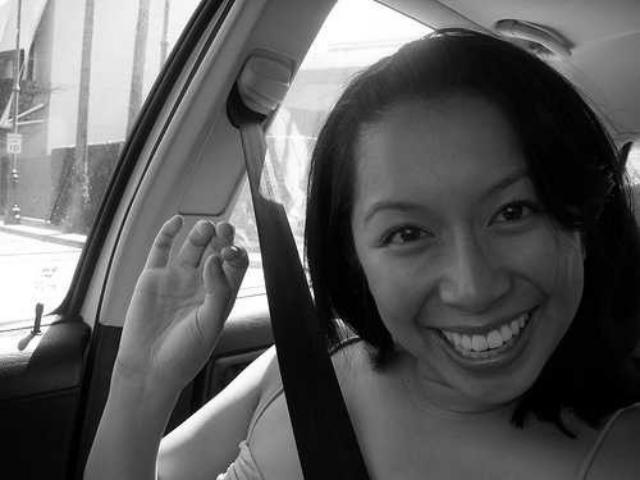SafeDriving: (367, 207, 449, 260), (478, 185, 552, 238)
Seatbelt: (232, 53, 378, 480)
